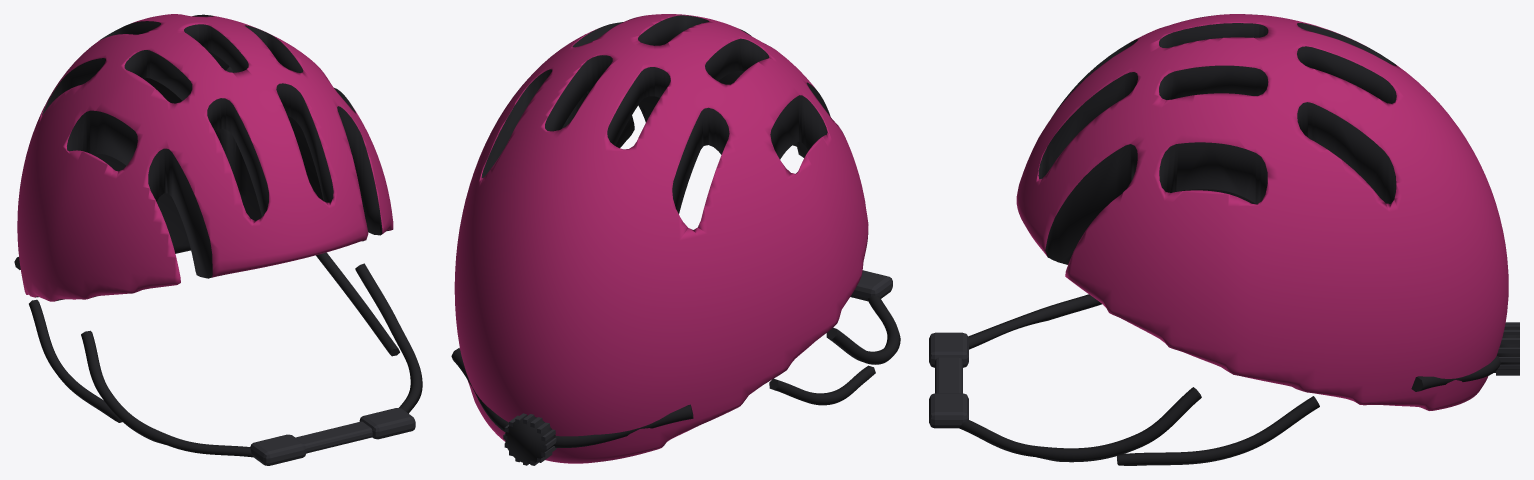
File: helmet.glb
3 views of the same model, side by side, from view 1: azimuth 30°, elevation 25°; view 2: azimuth 150°, elevation 25°; view 3: azimuth 270°, elevation 25° (orthographic). The views are drawn at different scales.
Parts seen in each view (by area): view 1: shell, straps; view 2: shell, straps, dial; view 3: shell, straps, dial.
Part boxes in pixels (bbox=[...]): shell: bbox=[17, 14, 393, 301]; straps: bbox=[29, 252, 422, 465]; shell: bbox=[454, 14, 868, 463]; straps: bbox=[769, 270, 900, 405]; dial: bbox=[451, 348, 693, 465]; shell: bbox=[1016, 14, 1508, 410]; straps: bbox=[929, 294, 1319, 465]; dial: bbox=[1411, 322, 1519, 391].
Bounding box in the file's own units: 0.209 × 0.1989 × 0.297.
